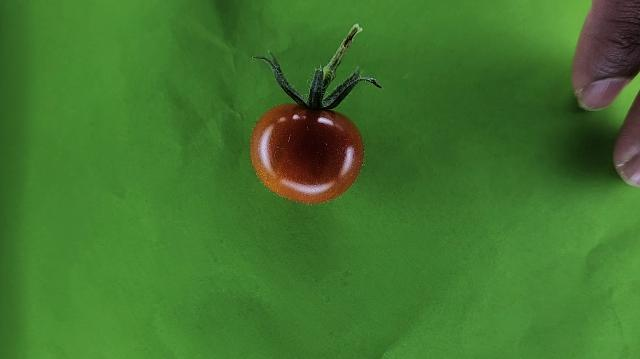Fully Grown: (250, 104, 365, 205)
